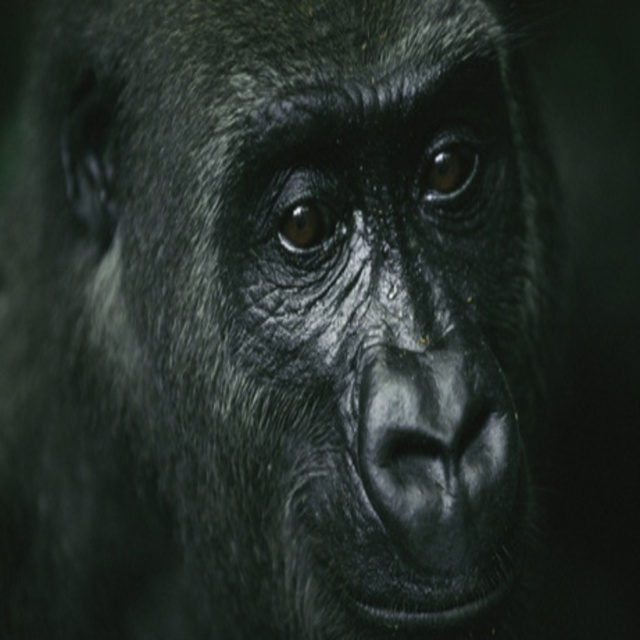Monkey: (29, 0, 591, 638)
